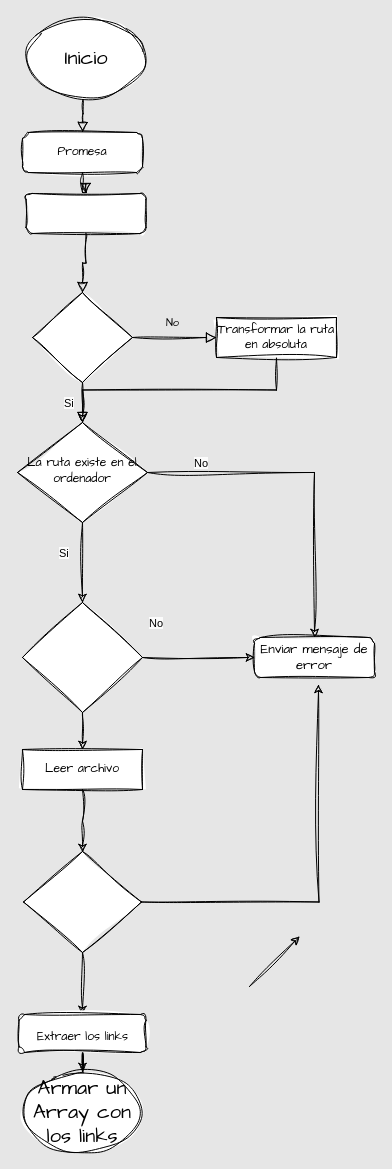
The diagram is 392 pixels wide and 1169 high, and some of its shapes have lost their labels. Here are the shapes that lost their labels. From the top down, the centre of each, then its label:
At point 85,213: "Ingresar Ruta".
At point 82,337: "La ruta es absoluta".
At point 82,657: "El archivo es Markdown".
At point 82,901: "El archivo tiene links".
